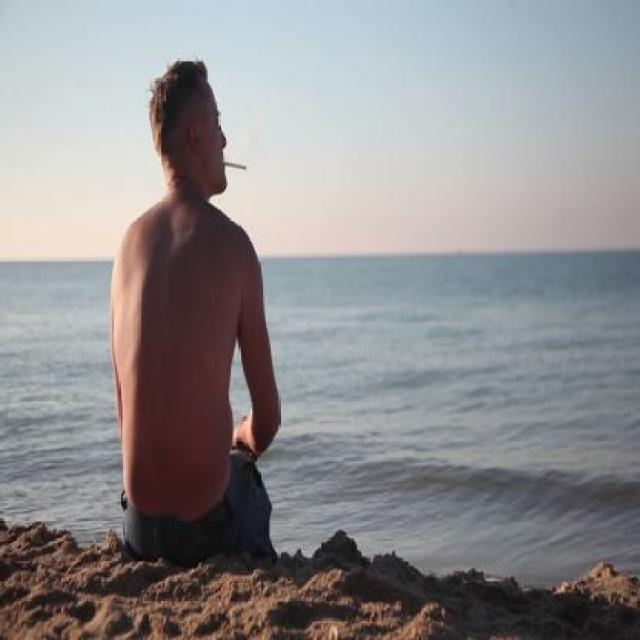cigarette: (220, 155, 251, 174)
